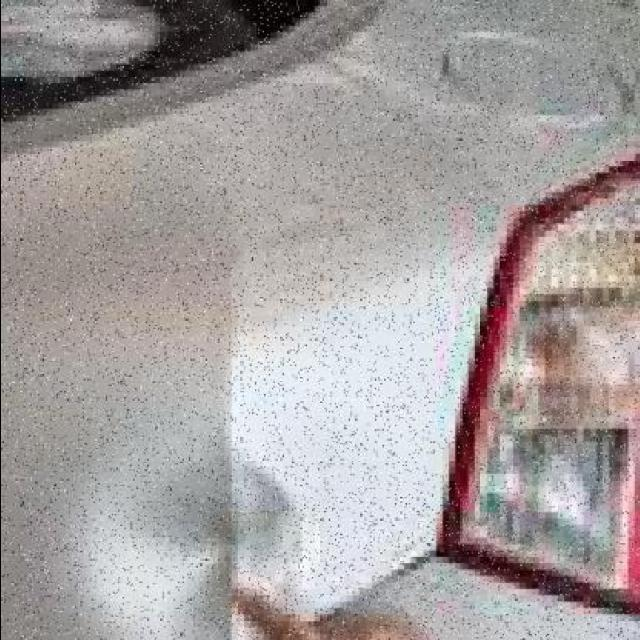rear-bumper-dent: (6, 0, 442, 634)
